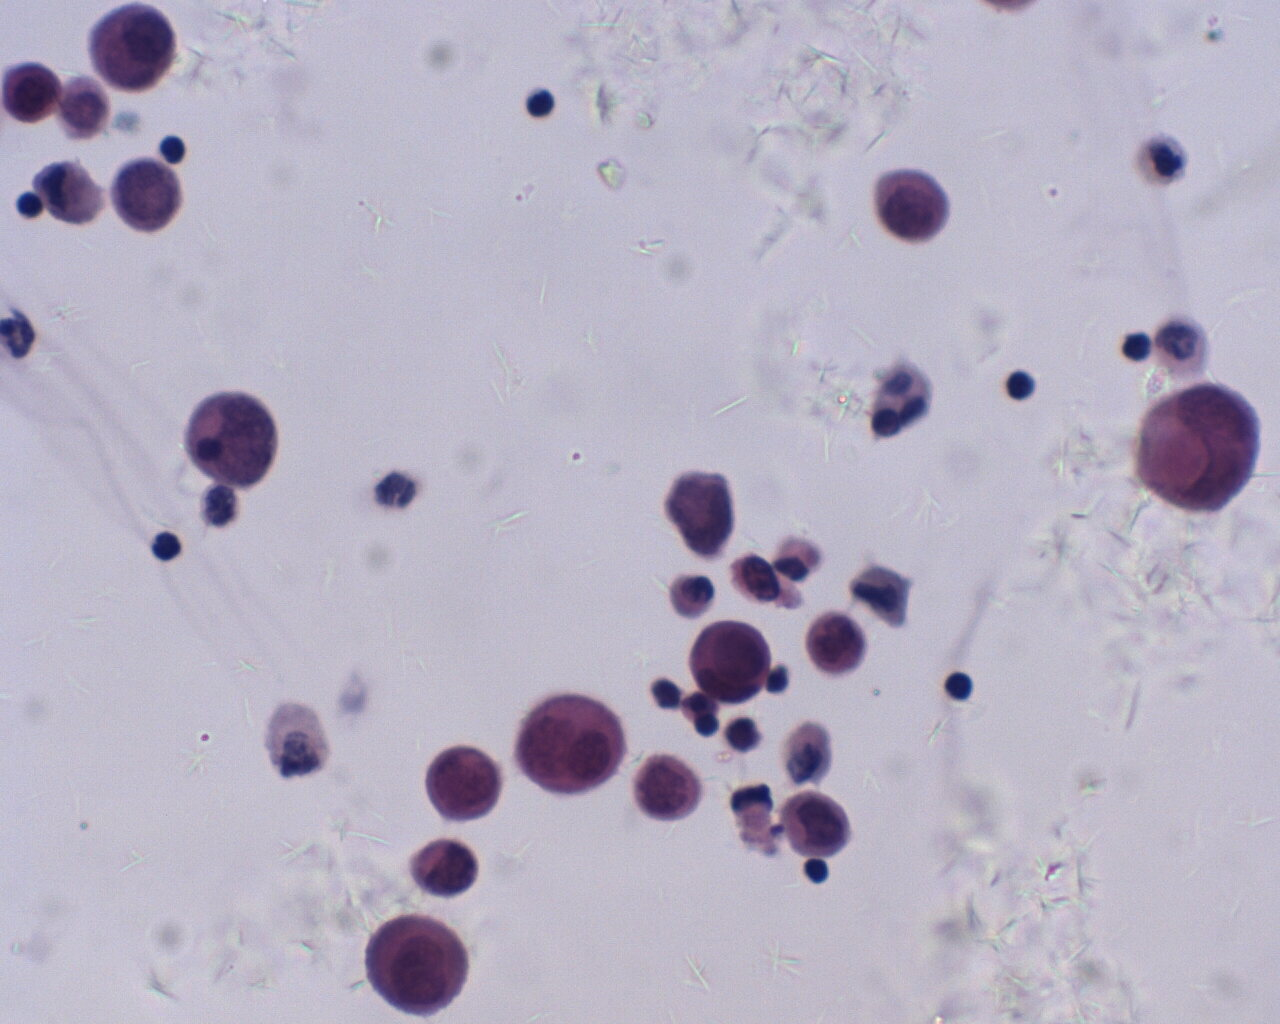ab: (1142, 385, 1264, 515), (512, 693, 625, 796), (360, 912, 470, 1017), (188, 391, 277, 488), (866, 165, 948, 243), (109, 158, 184, 237), (429, 744, 502, 820), (779, 789, 851, 856)
lymph: (690, 621, 774, 705), (148, 526, 182, 560), (522, 86, 557, 118), (945, 669, 976, 703), (1006, 370, 1037, 401), (160, 133, 188, 165), (804, 860, 831, 887)
meso: (86, 3, 181, 95)
